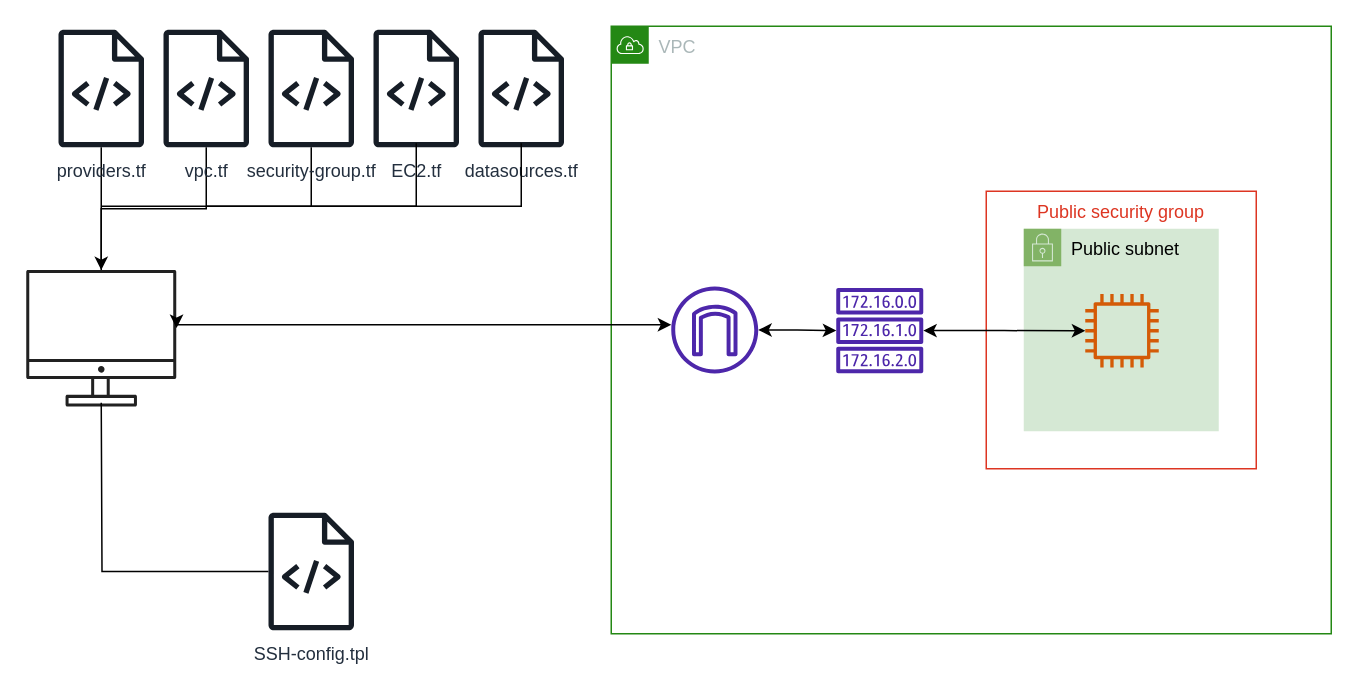
This 1358x692 diagram has some shape labels left out. Here are the shapes that lost their labels. From the top down, the centre of each, then its label:
At point (100, 337): "client".
At point (714, 329): "Internet gateway".
At point (879, 330): "Public route table".
At point (1121, 330): "Dev node".
